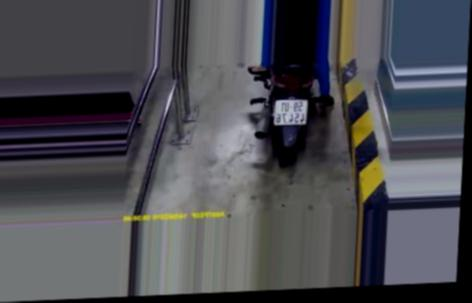License_Plate: (270, 97, 311, 129)
